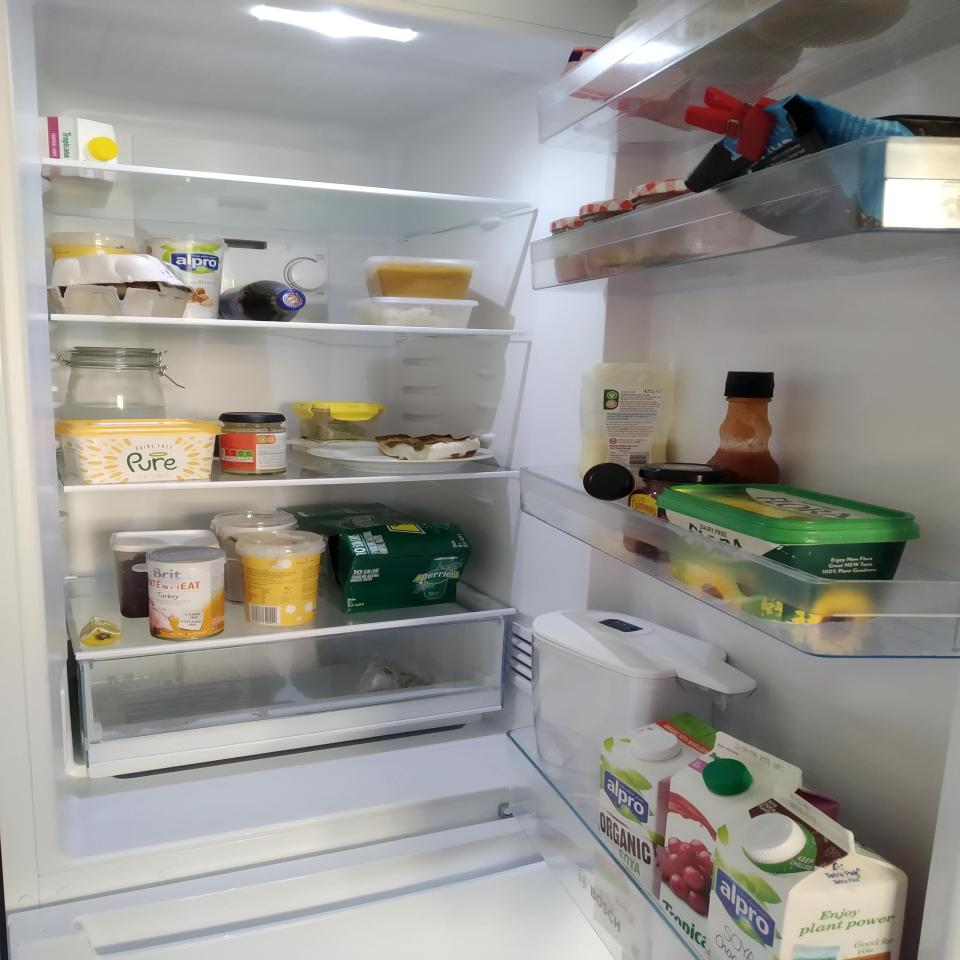Huevos: (48, 254, 193, 320)
